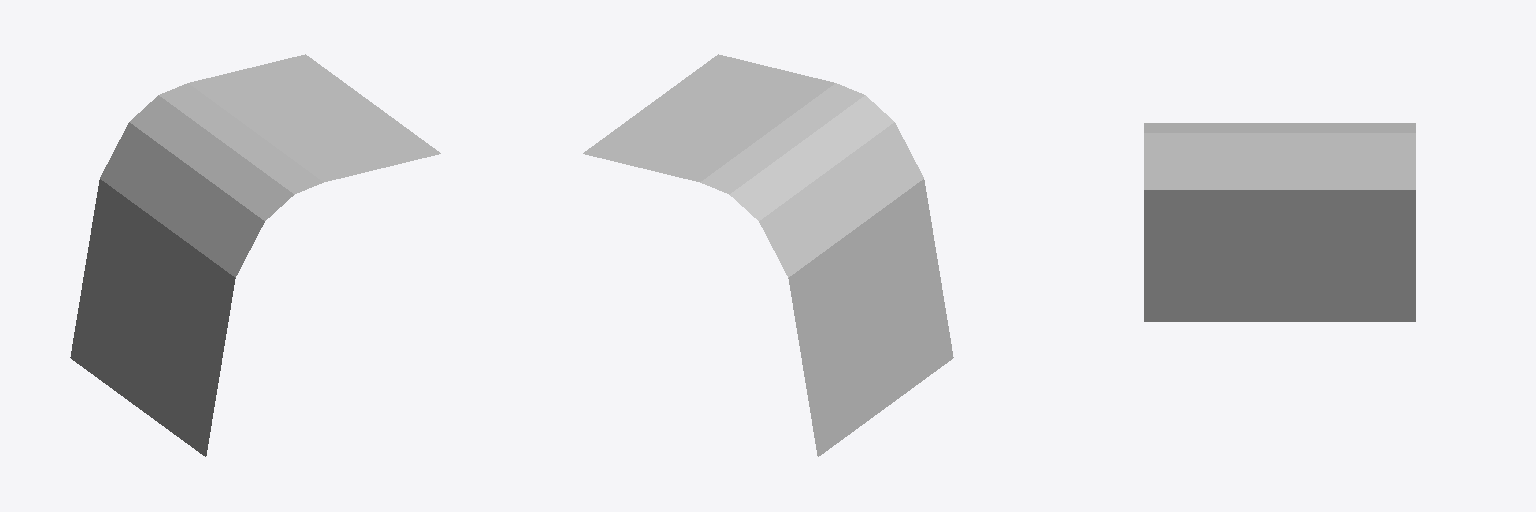
The model's file is Stone3c.obj.
The picture shows the model from 3 angles: view 1: azimuth 30°, elevation 25°; view 2: azimuth 150°, elevation 25°; view 3: azimuth 270°, elevation 25°; orthographic projection.
Visible parts, largest first — view 1: Grid_Grid.013_Grid_Grid.034; view 2: Grid_Grid.013_Grid_Grid.034; view 3: Grid_Grid.013_Grid_Grid.034.
Boxes of the visible parts, x1=… form: Grid_Grid.013_Grid_Grid.034: x1=70, y1=54, x2=440, y2=456; Grid_Grid.013_Grid_Grid.034: x1=583, y1=54, x2=953, y2=456; Grid_Grid.013_Grid_Grid.034: x1=1144, y1=123, x2=1415, y2=321.
Bounding box in the file's own units: 1 × 1 × 1.